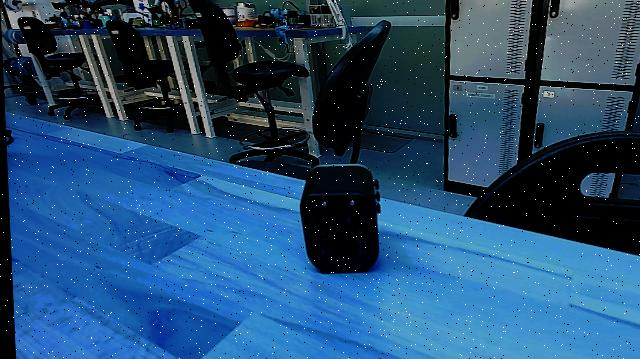adapter: (290, 159, 387, 279)
